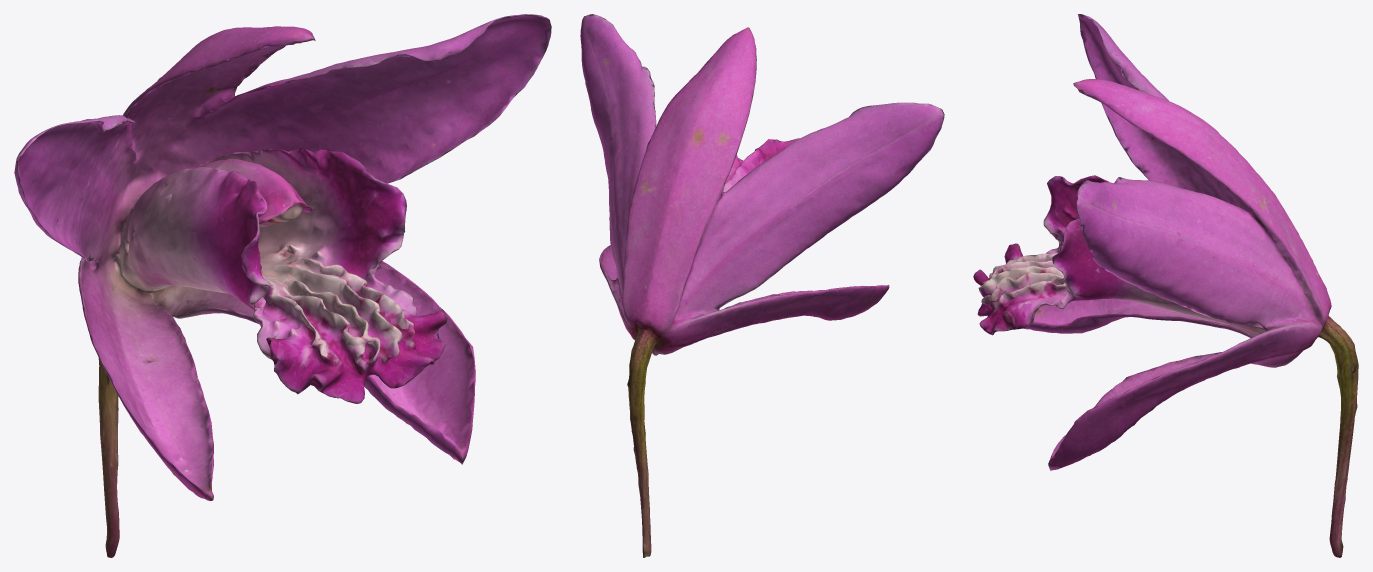
Rendered from ground_orchid_holo_ready.glb.
The picture shows the model from 3 angles, left to right: view 1: azimuth 30°, elevation 25°; view 2: azimuth 150°, elevation 25°; view 3: azimuth 270°, elevation 25°; orthographic projection. The views are drawn at different scales.
Parts seen in each view (by area): view 1: orchidSpecimenMain; view 2: orchidSpecimenMain; view 3: orchidSpecimenMain.
Boxes of the visible parts, <box> form: orchidSpecimenMain: <box>14,14,551,557</box>; orchidSpecimenMain: <box>580,14,944,557</box>; orchidSpecimenMain: <box>973,14,1358,557</box>.
Size of the model in its own units: 4.9 by 5.66 by 4.08.
Materials: 1 (1 with a texture image).
